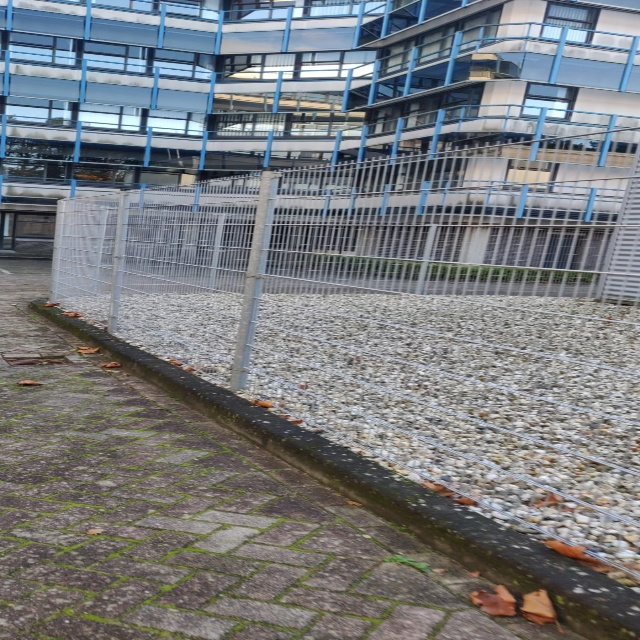obstacle: (0, 91, 614, 444)
